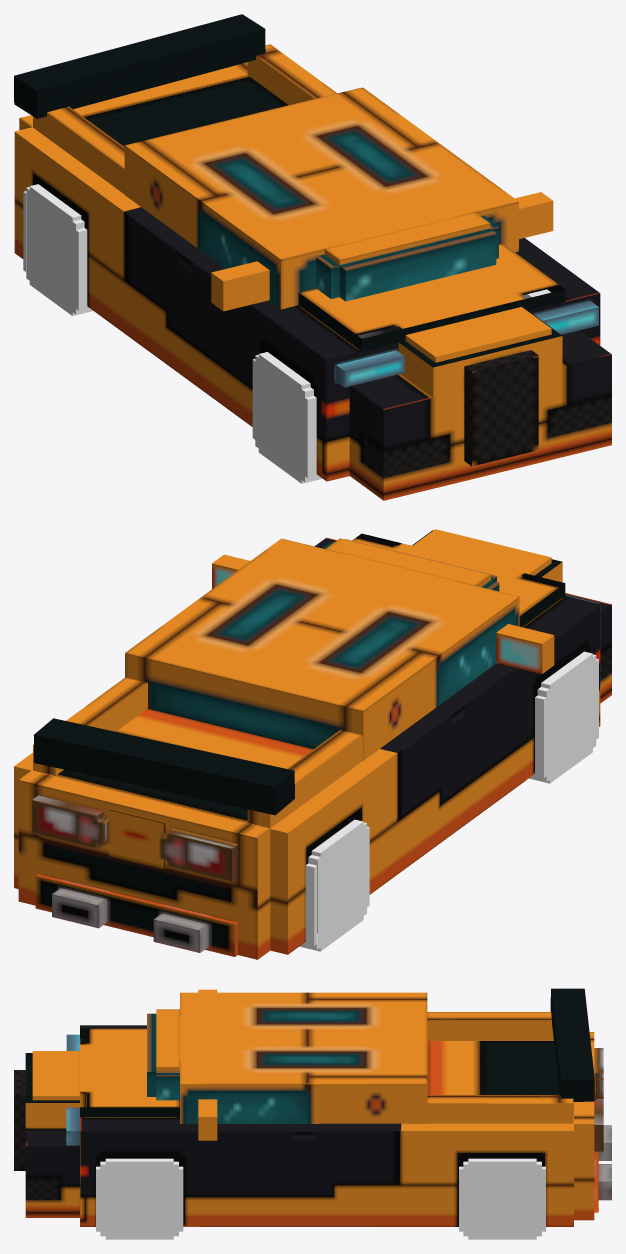
The model's file is BGN_BUGGADY.fbx.
3 renders of one model, top to bottom at view 1: azimuth 30°, elevation 25°; view 2: azimuth 150°, elevation 25°; view 3: azimuth 270°, elevation 25°, orthographic. The views are drawn at different scales.
Visible parts, largest first — view 1: BGN_BUGGADY, WING, R_R__7_, R_R__9_; view 2: BGN_BUGGADY, WING, R_R__9_, R_R__7_; view 3: BGN_BUGGADY, R_R__6_, R_R__8_, WING.
Part boxes in pixels (x1,y1,x2,y2): BGN_BUGGADY: (14, 44, 611, 500); WING: (14, 14, 265, 118); R_R__7_: (252, 352, 322, 483); R_R__9_: (23, 184, 92, 315); BGN_BUGGADY: (14, 529, 611, 959); WING: (33, 718, 294, 815); R_R__9_: (299, 819, 369, 951); R_R__7_: (529, 651, 598, 783); BGN_BUGGADY: (14, 989, 611, 1226); R_R__6_: (96, 1158, 183, 1239); R_R__8_: (459, 1158, 545, 1239); WING: (550, 988, 594, 1101).
Bounding box in the file's own units: 171 × 91.04 × 340.
